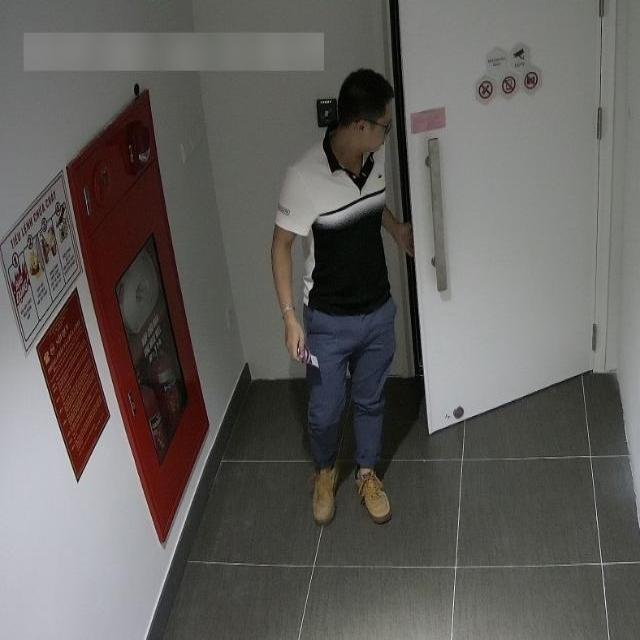bare_hand: (269, 292, 321, 370), (390, 203, 437, 260)
